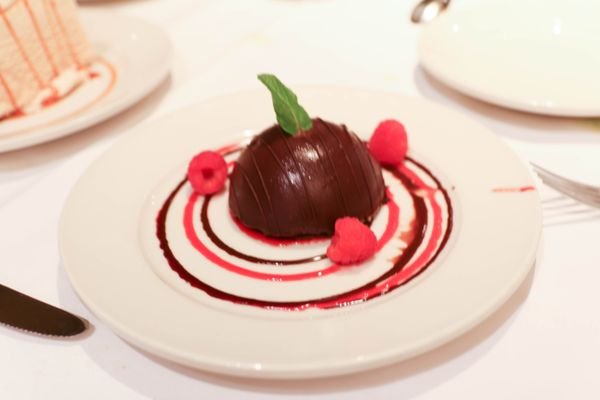salad: (528, 160, 600, 210)
sandwich: (0, 281, 95, 339)
